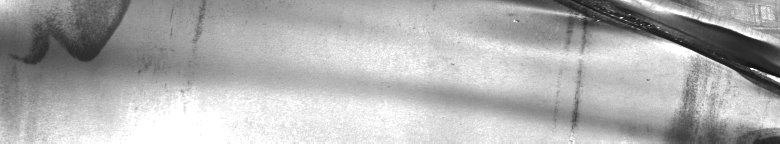ke: (524, 4, 776, 136)
